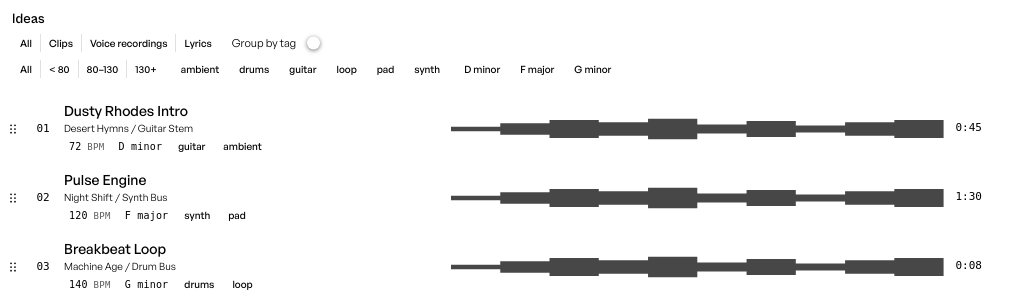
Scenario: IdeasLibrary — BPM filter › Slow (<80) shows only the 72 BPM idea
Click the radio button labelled "< 80" at [60, 69], box [41,60,79,78]
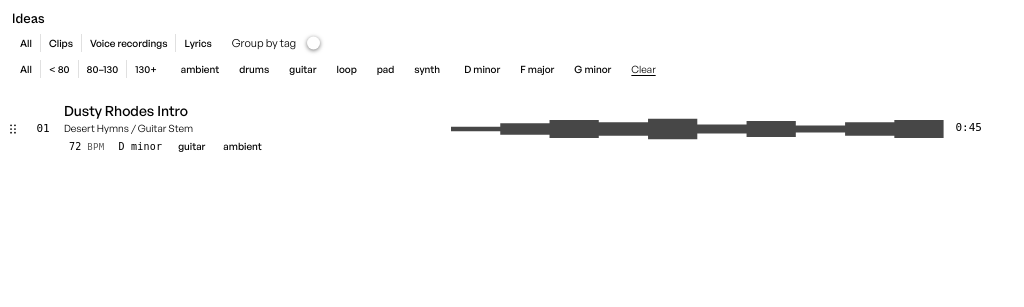
Expected: the text "Dusty Rhodes Intro" is shown, [64,102,188,120]
Now the number of list items with test id "idea-row" is 1, box [0,94,1023,163]
